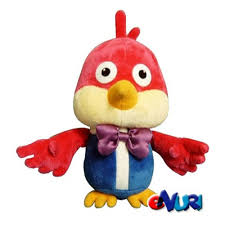Harry: (15, 9, 211, 211)
